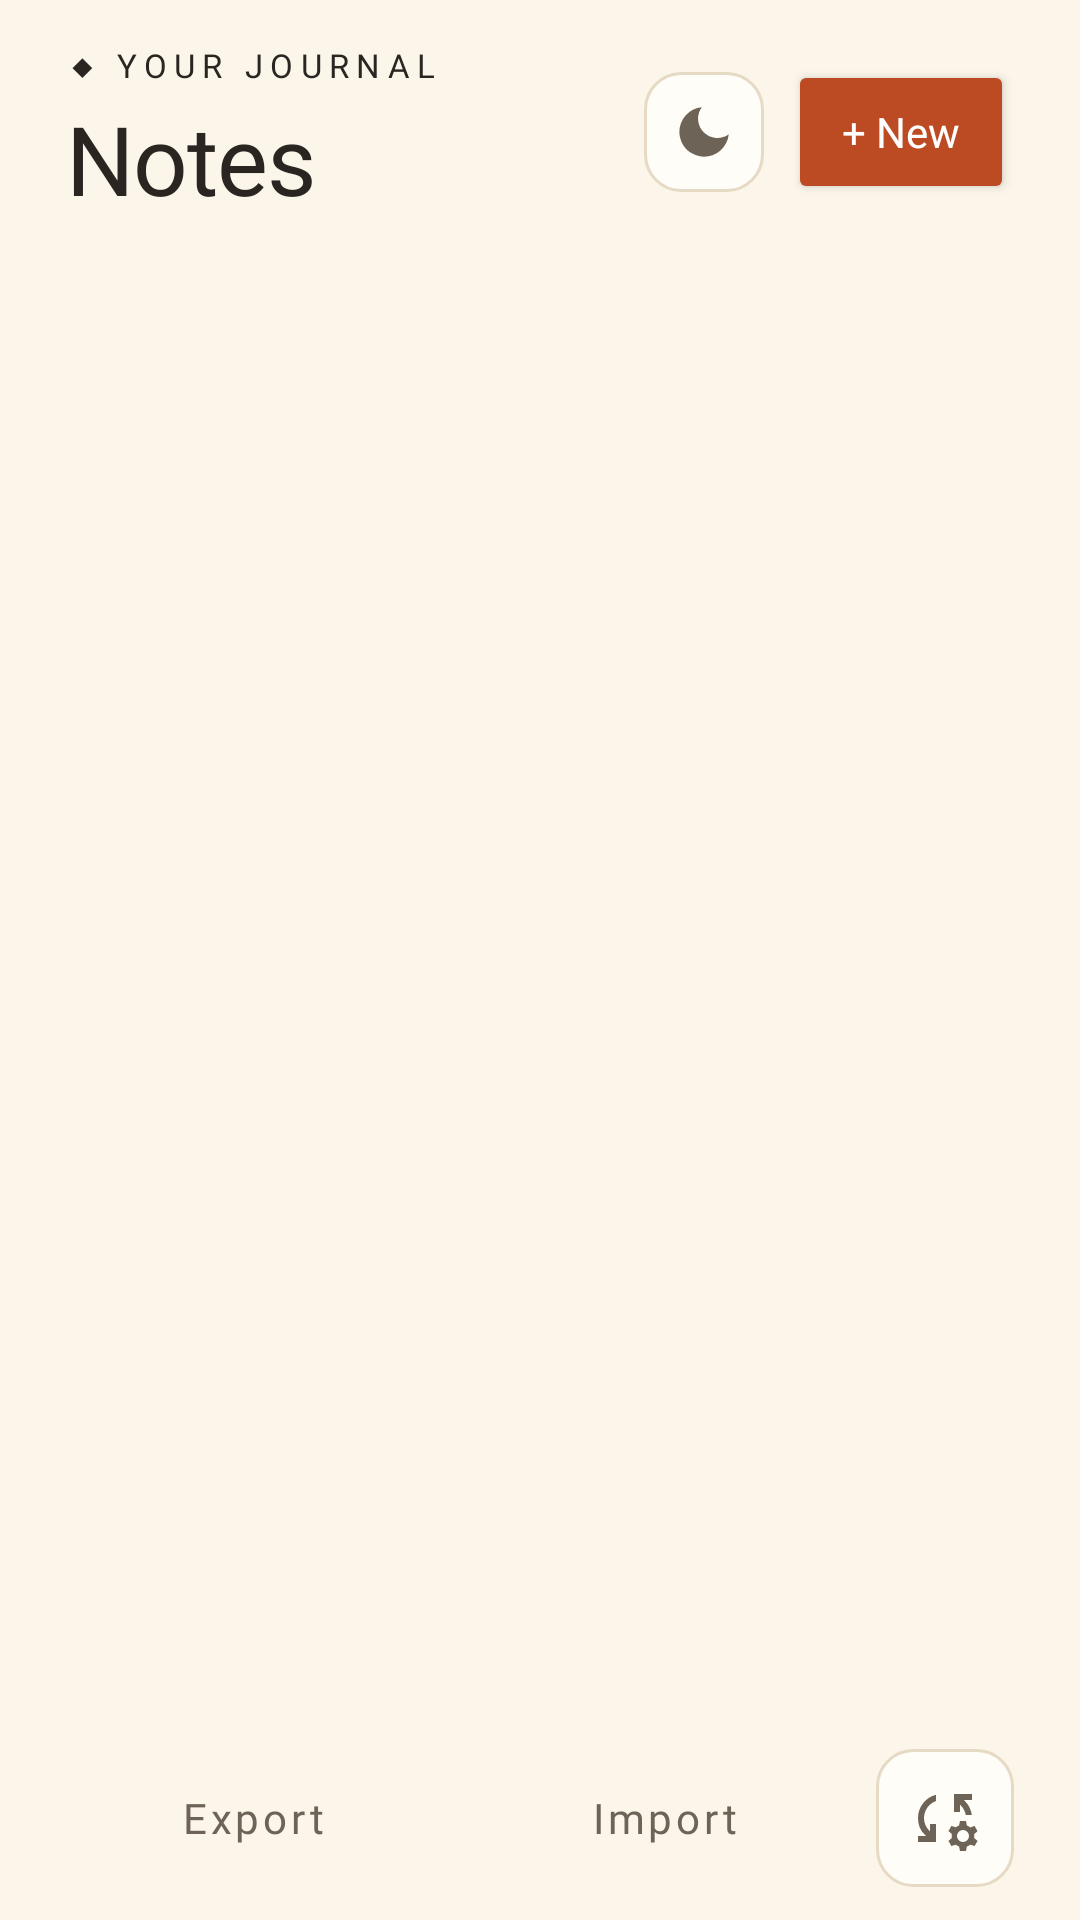

Icons on this 1080px x 1920px Android screen, each with the point to tap as (x,y):
Alias Settings: (945,1818)
Toggle theme: (704,132)
